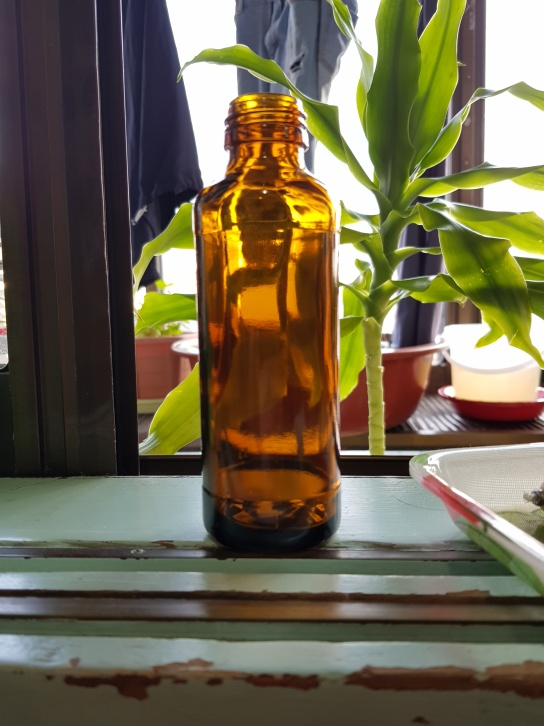Glass: (191, 93, 343, 553)
